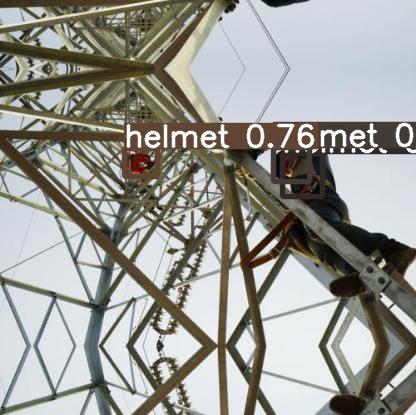helmet: (282, 153, 322, 196), (273, 147, 309, 181), (124, 148, 157, 176)
